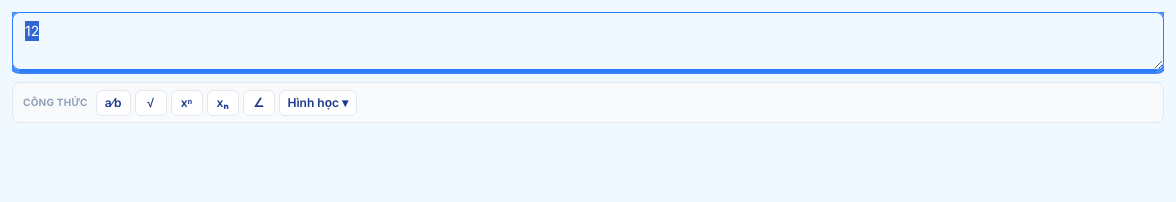
teacher math formula toolbar › updates a controlled textarea from the fraction button
This screenshot has width=1176, height=202.
Step 1. Click the button named "Phân số" → [113, 102], box [96,90,130,116]
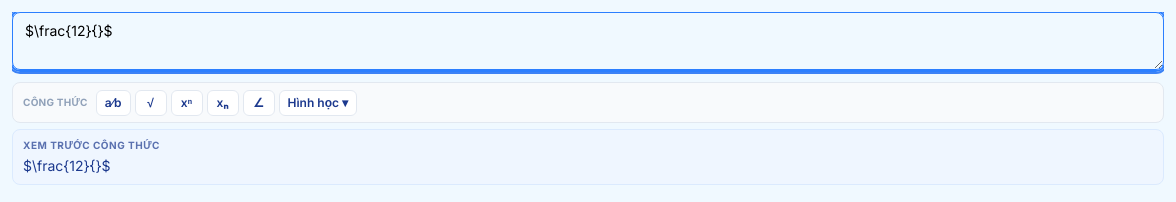
Expected: the text box named "Nội dung câu hỏi" holds "$\\frac{12}{}$", [12,12,1164,70]
